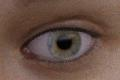eye: (47, 29, 82, 58)
